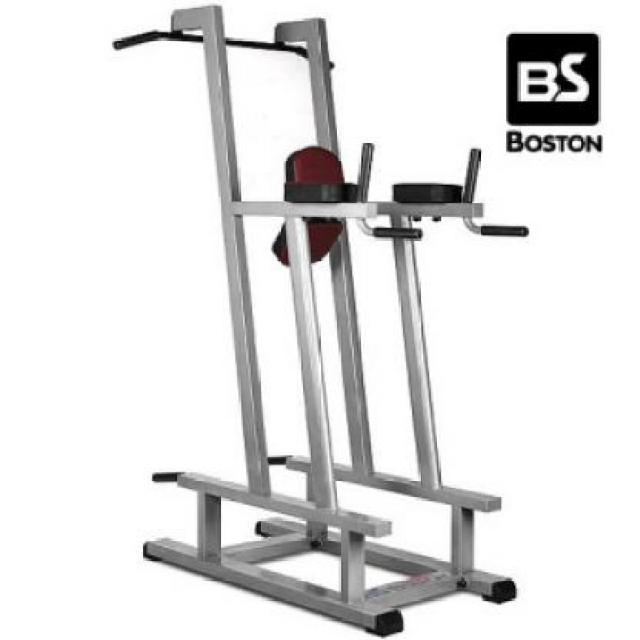chinning dipping: (112, 5, 506, 637)
